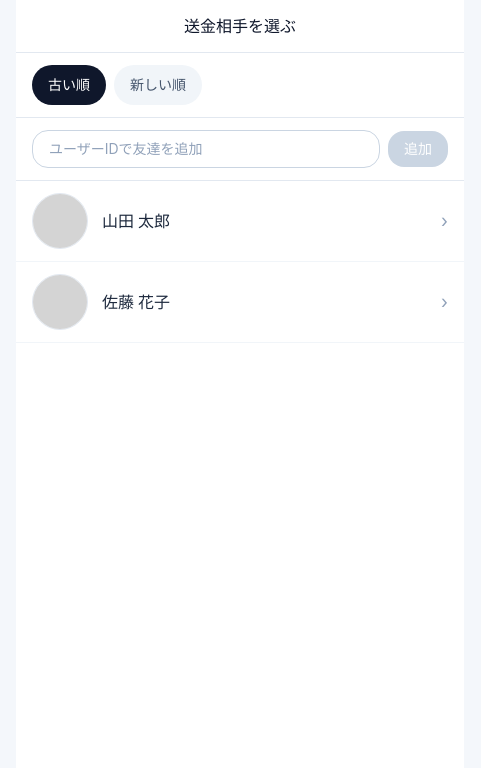
it: RecipientSelectionScreen › 友達追加 › 追加に失敗したら理由を表示し、一覧は取り直さない
expect the button "山田 太郎 ›" is shown: met, box [16,181,464,261]
Type "friend-002" into the field labelled "ユーザーID" at (206, 149), box [32,130,380,168]
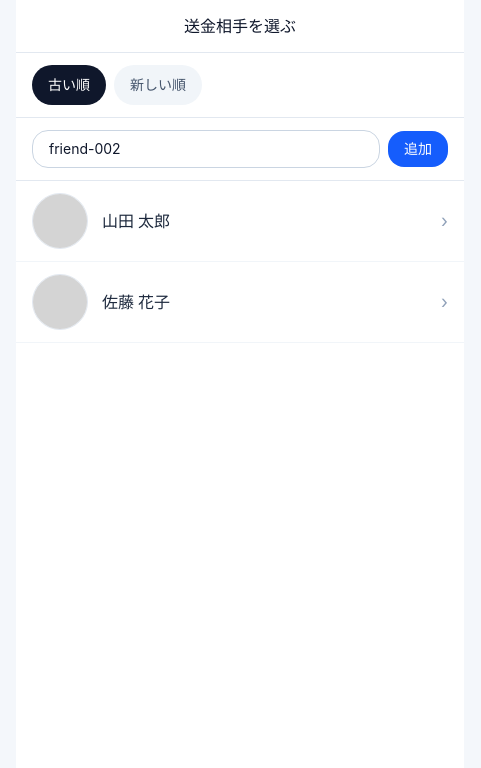
Click the button "追加" at (418, 149), box [388,131,448,167]
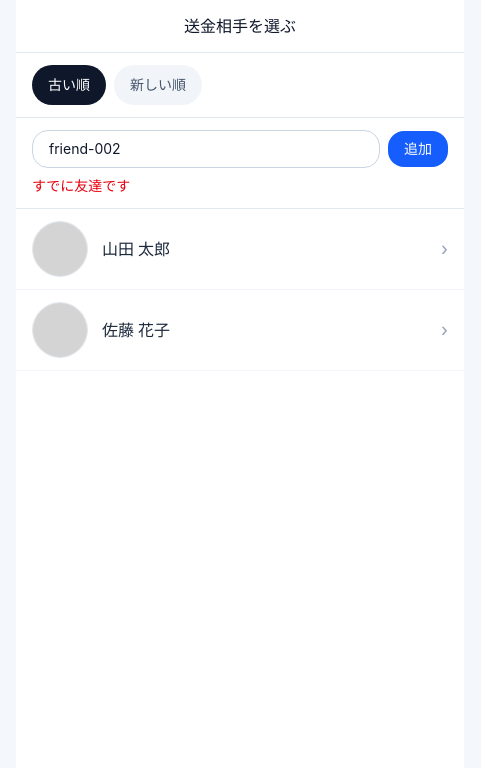
expect the message reads "すでに友達です": met, box [32,177,130,194]
